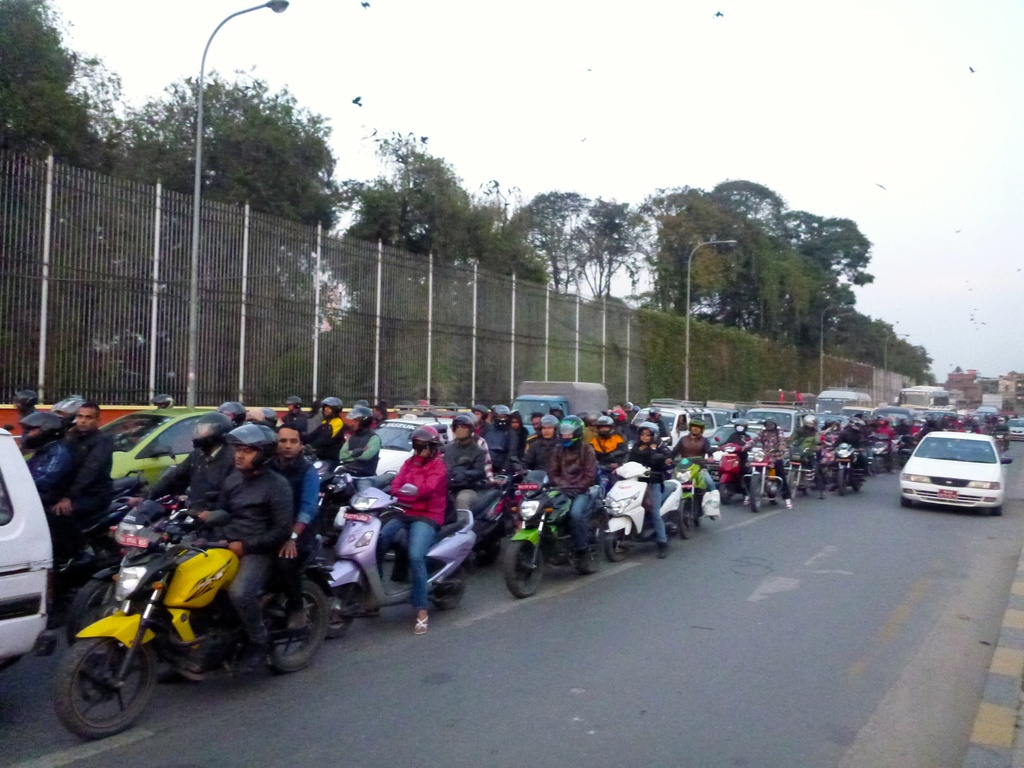Car: (0, 402, 1023, 670)
